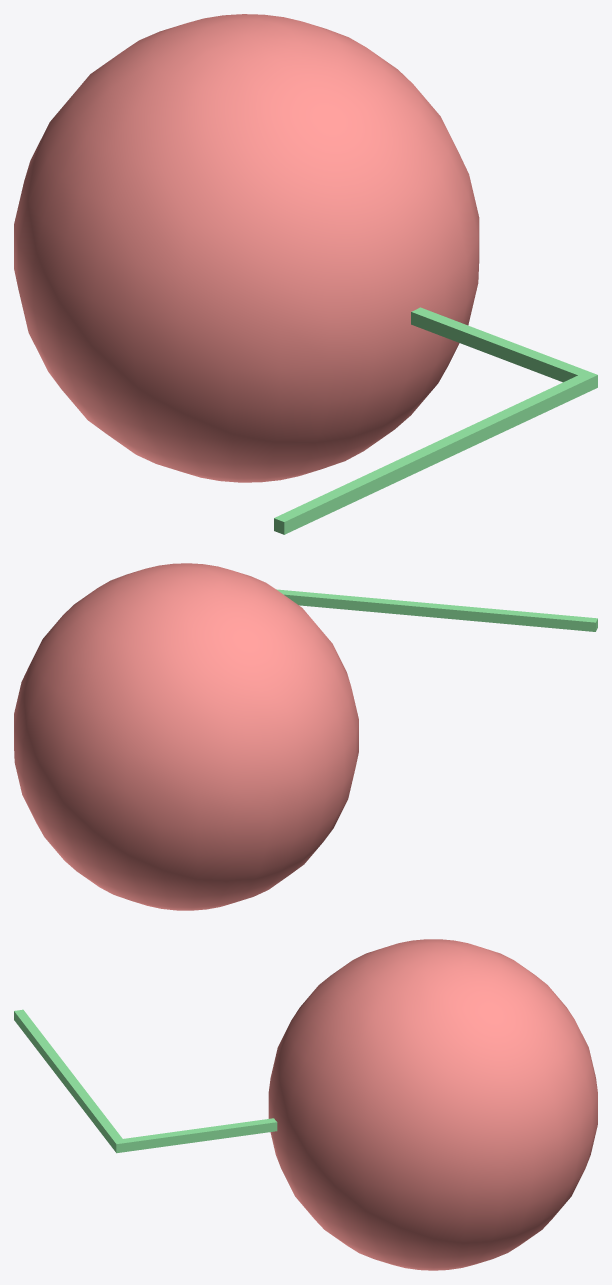
3 renders of one model, top to bottom at view 1: azimuth 30°, elevation 25°; view 2: azimuth 150°, elevation 25°; view 3: azimuth 270°, elevation 25°, orthographic. The views are drawn at different scales.
Parts seen in each view (by area): view 1: ball, square_bar; view 2: ball, square_bar; view 3: ball, square_bar.
Boxes of the visible parts, left/top/right/bottom form: ball: left=14, top=14, right=479, bottom=482; square_bar: left=274, top=307, right=597, bottom=534; ball: left=14, top=563, right=358, bottom=910; square_bar: left=276, top=589, right=597, bottom=631; ball: left=268, top=939, right=597, bottom=1270; square_bar: left=14, top=1009, right=277, bottom=1153.
Size of the model in its own units: 0.0191 by 0.0167 by 0.0294.
